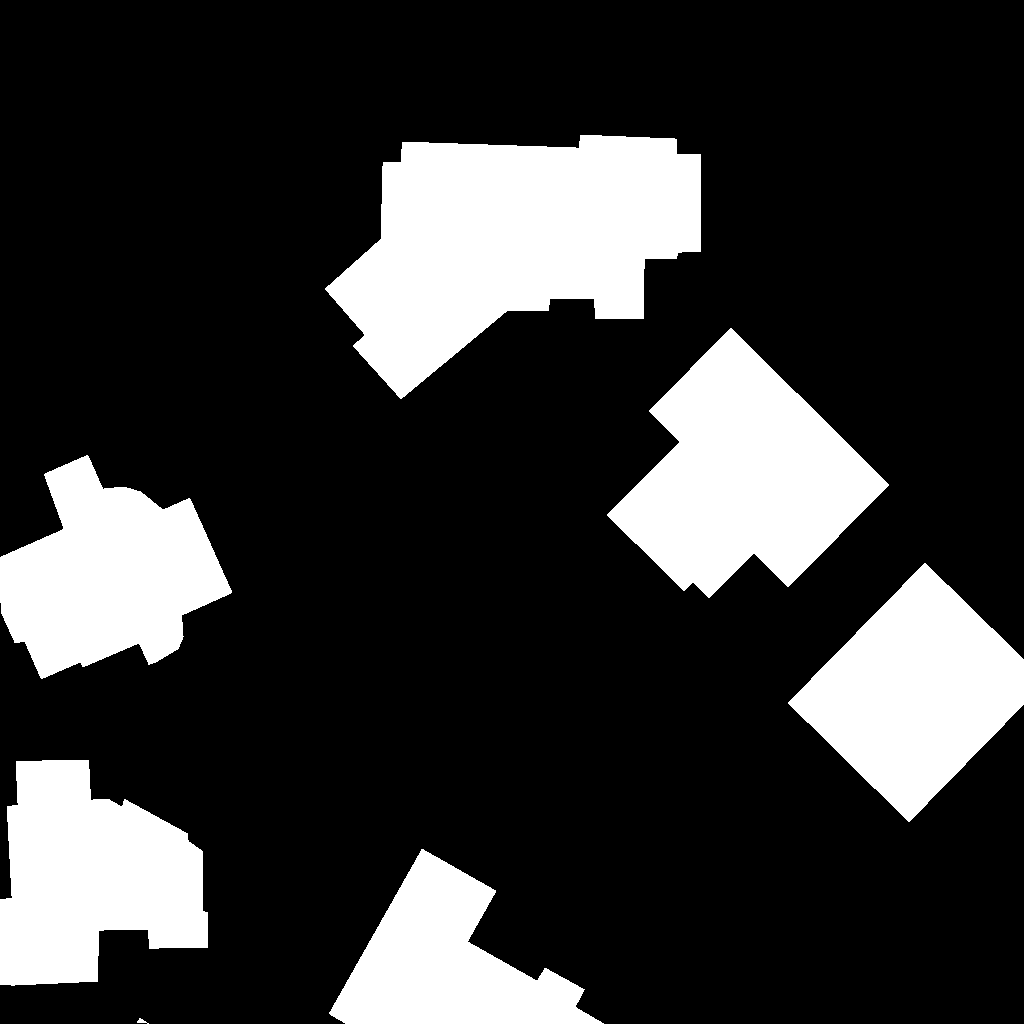building: (325, 135, 701, 400), (607, 328, 890, 599), (788, 563, 1024, 823), (0, 455, 233, 680), (329, 849, 605, 1024), (0, 760, 208, 986), (137, 1018, 150, 1024)
